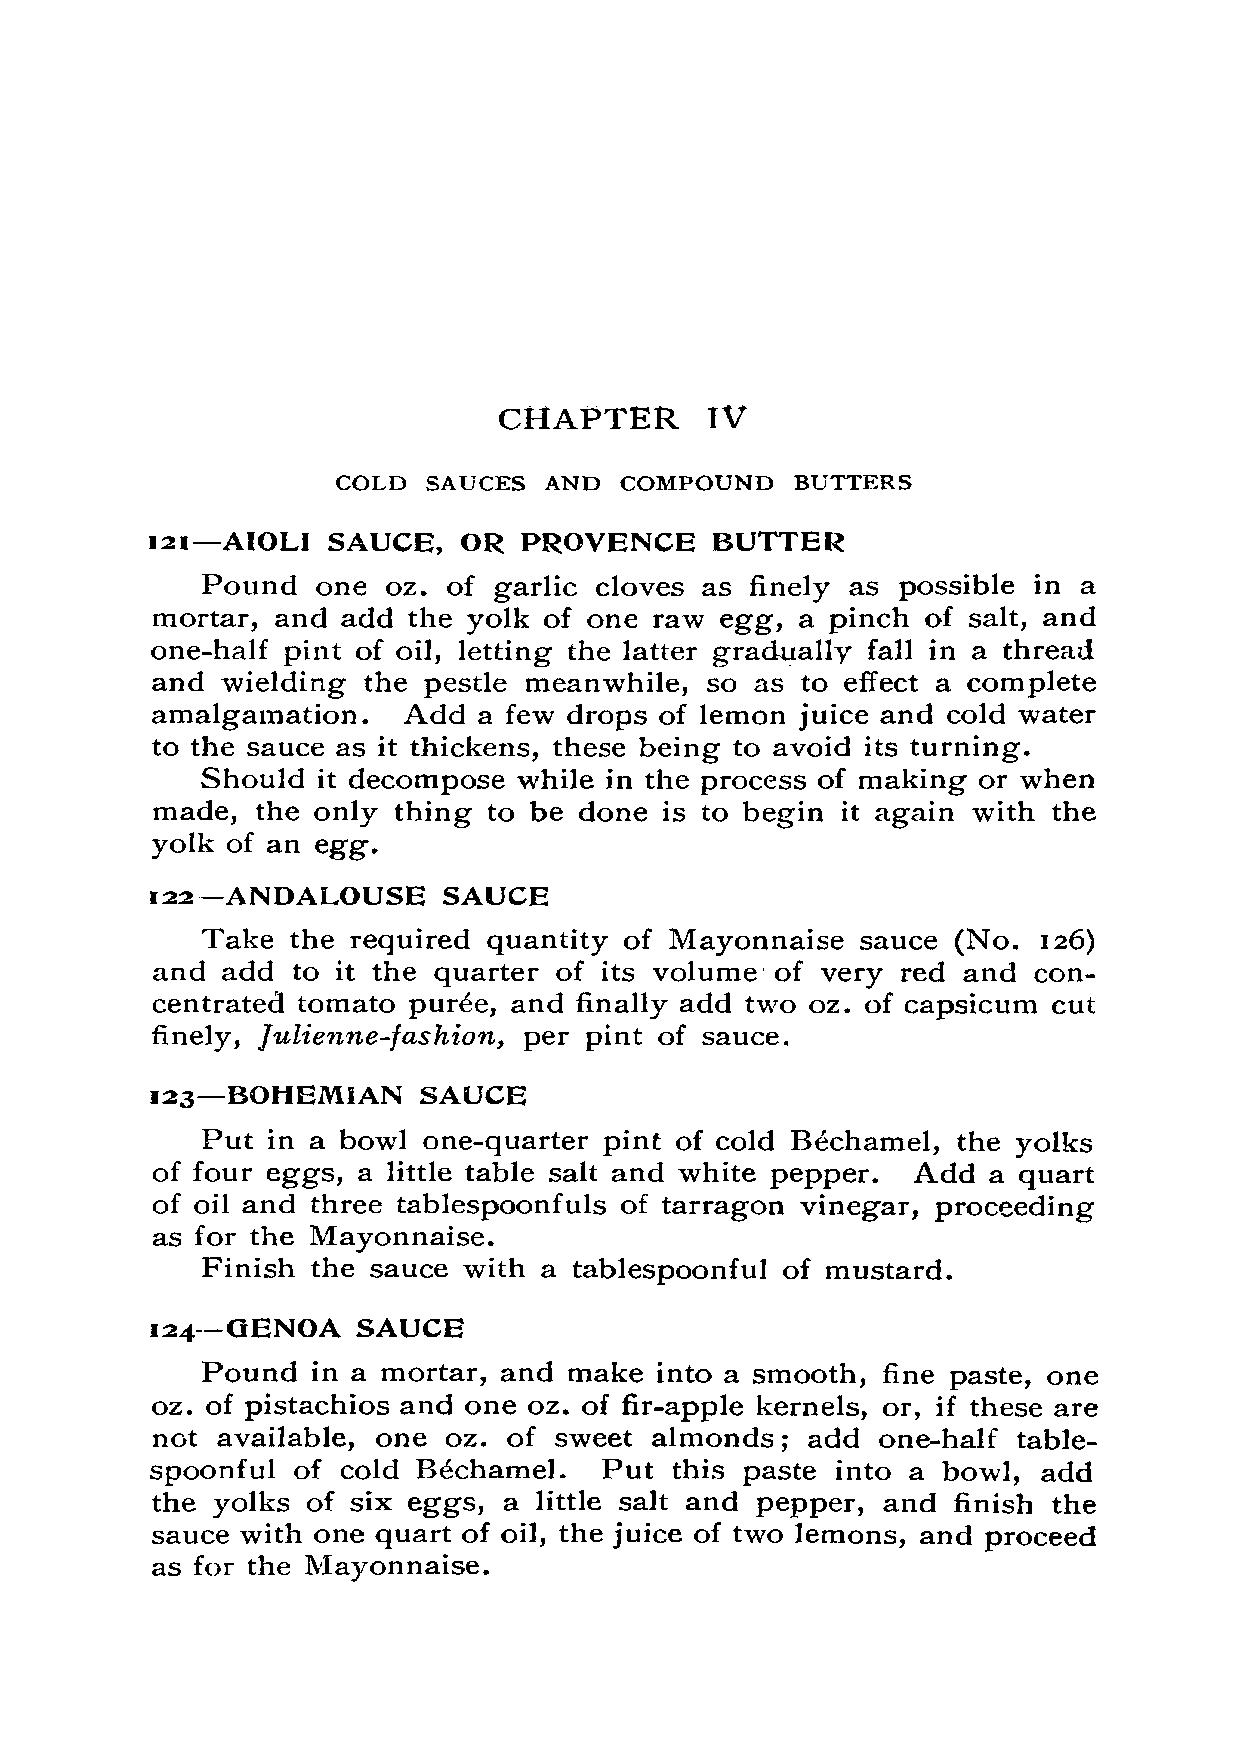chapter: (333, 403, 913, 493), (142, 523, 845, 558), (145, 1080, 527, 1110), (148, 883, 552, 909), (145, 1317, 463, 1343)
content: (148, 570, 1099, 863), (146, 1357, 1096, 1586), (145, 1123, 1096, 1287), (148, 921, 1098, 1055)
